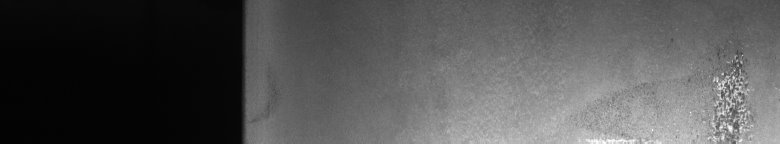hc: (708, 43, 754, 136)
